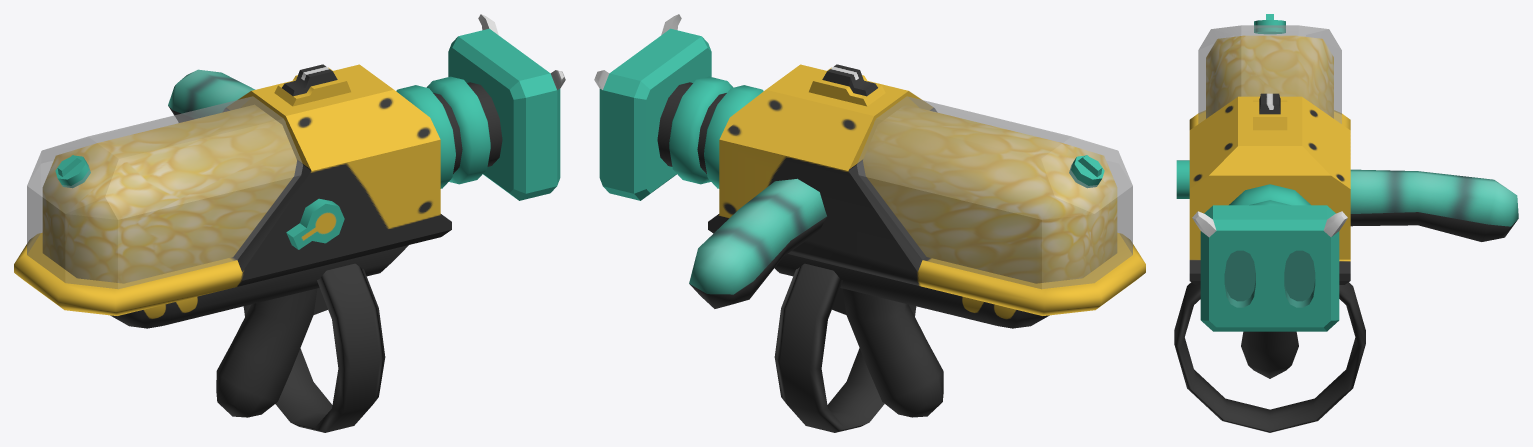
The model's file is Gun.fbx.
3 renders of one model, left to right at view 1: azimuth 30°, elevation 25°; view 2: azimuth 150°, elevation 25°; view 3: azimuth 270°, elevation 25°, orthographic. The views are drawn at different scales.
Visible parts, largest first — view 1: Gun; view 2: Gun; view 3: Gun.
Boxes of the visible parts, x1,y1,x2,y2 form: Gun: [14, 14, 565, 432]; Gun: [594, 14, 1145, 432]; Gun: [1174, 14, 1518, 432].
Bounding box in the file's own units: 7.12 × 4.86 × 4.62.
2 materials, 1 textured.
